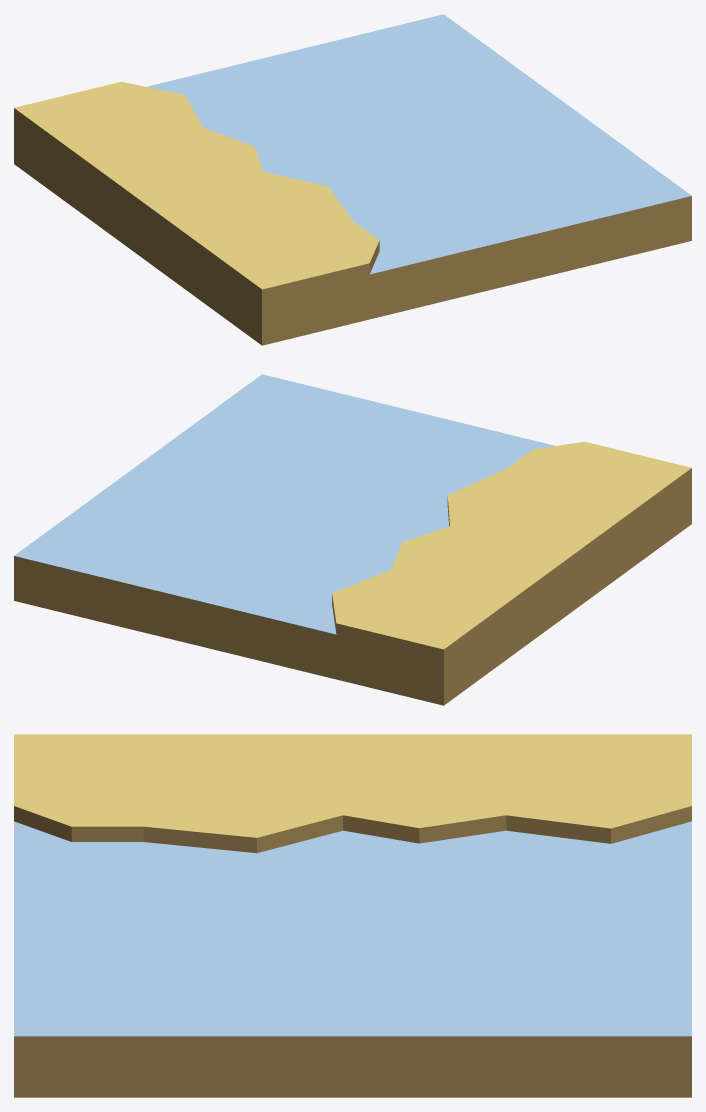
The model's file is Terrain_Tile_Sand_Water_Bank_02.fbx.
3 views of the same model, one above another, from view 1: azimuth 30°, elevation 25°; view 2: azimuth 150°, elevation 25°; view 3: azimuth 270°, elevation 25° (orthographic). The views are drawn at different scales.
Parts seen in each view (by area): view 1: Terrain_Tile_Sand_Water_Bank_02; view 2: Terrain_Tile_Sand_Water_Bank_02; view 3: Terrain_Tile_Sand_Water_Bank_02.
Part boxes in pixels (x1,y1,x2,y2): Terrain_Tile_Sand_Water_Bank_02: (14, 14, 691, 345); Terrain_Tile_Sand_Water_Bank_02: (14, 374, 691, 705); Terrain_Tile_Sand_Water_Bank_02: (14, 734, 691, 1097).
Bounding box in the file's own units: 126 × 15.75 × 126.
